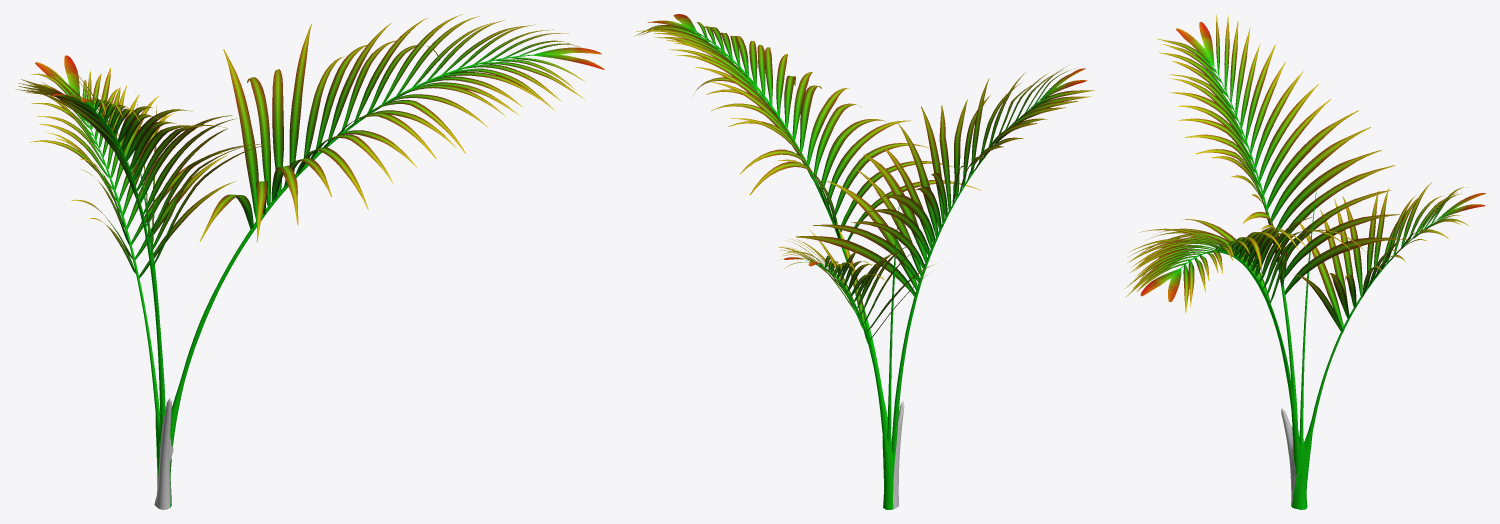
File: PlantPalm01.fbx
The picture shows the model from 3 angles, left to right: view 1: azimuth 30°, elevation 25°; view 2: azimuth 150°, elevation 25°; view 3: azimuth 270°, elevation 25°; orthographic projection. The views are drawn at different scales.
Parts seen in each view (by area): view 1: _axys_Var1_LOD0; view 2: _axys_Var1_LOD0; view 3: _axys_Var1_LOD0.
Boxes of the visible parts, x1=… form: _axys_Var1_LOD0: x1=15, y1=14, x2=604, y2=509; _axys_Var1_LOD0: x1=634, y1=14, x2=1094, y2=509; _axys_Var1_LOD0: x1=1125, y1=15, x2=1485, y2=509.
Size of the model in its own units: 172 by 146 by 115.
